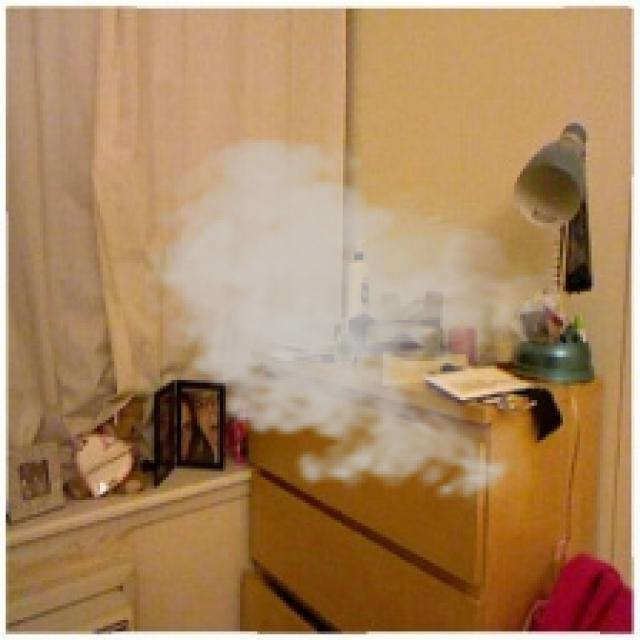Smoke: (135, 128, 560, 512)
